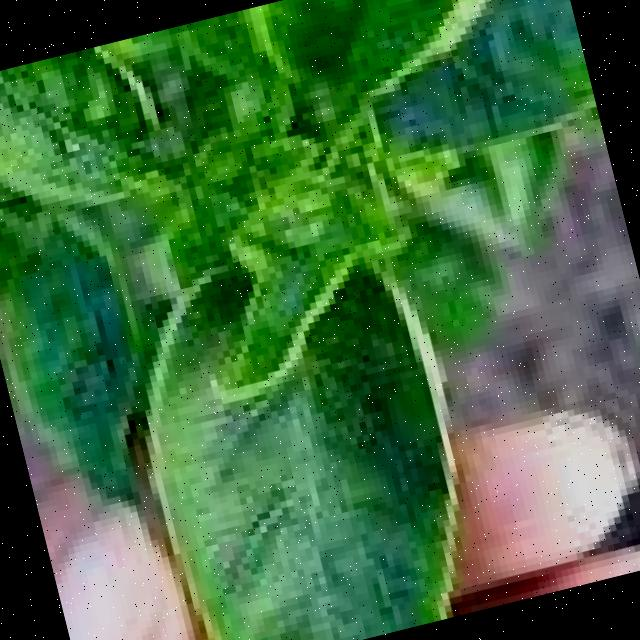leaf curl: (0, 0, 546, 473)
